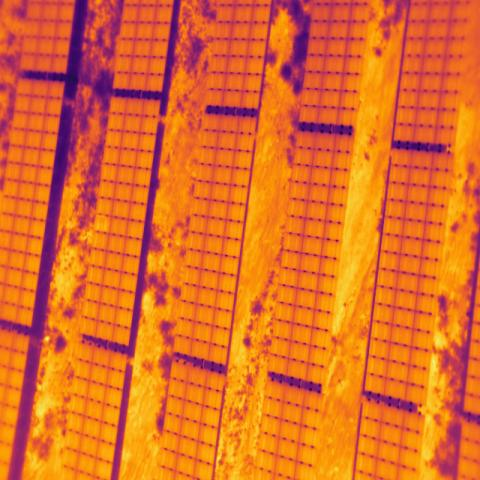fault: (94, 214, 112, 236)
